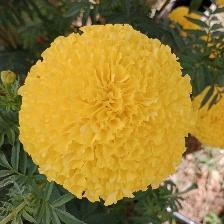marigold: (19, 23, 195, 207)
